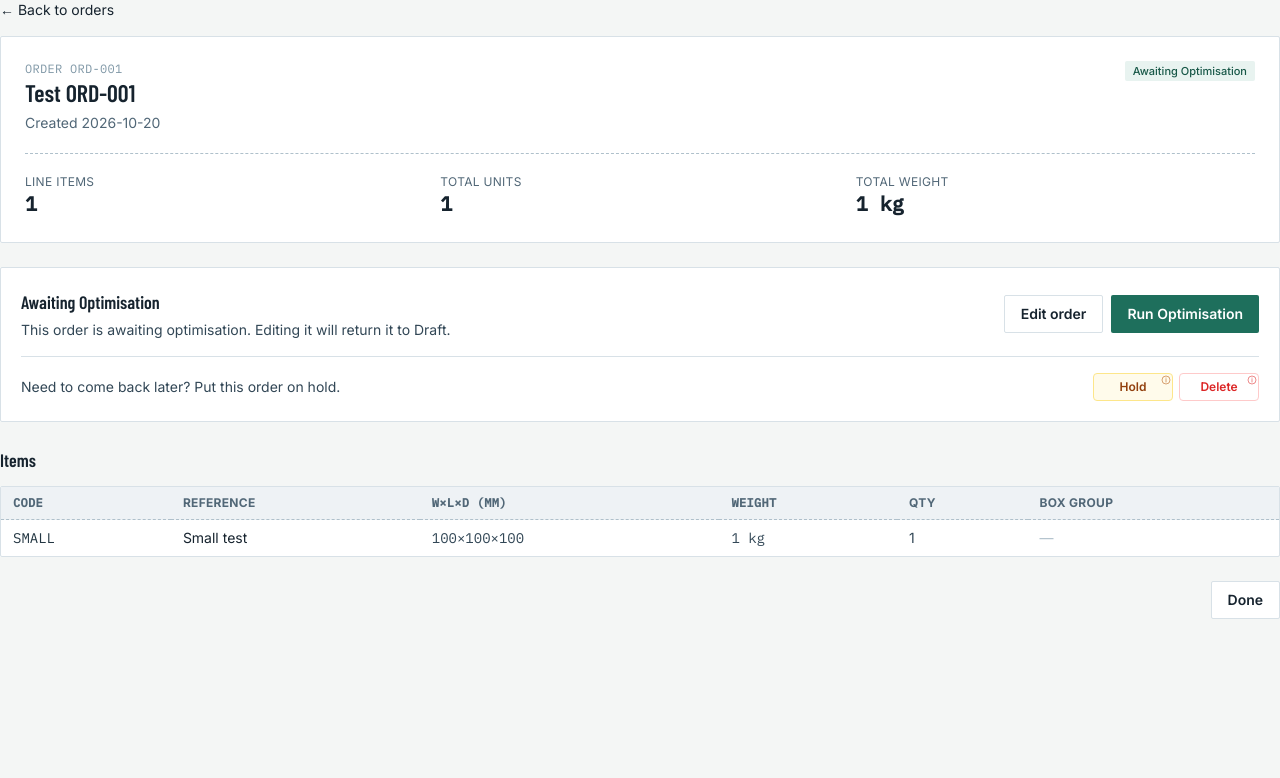
order rejection display and recovery › uses the saved solve response even when the follow-up summary request fails
Click the button "Run Optimisation" at (1185, 314), box [1111,295,1259,333]
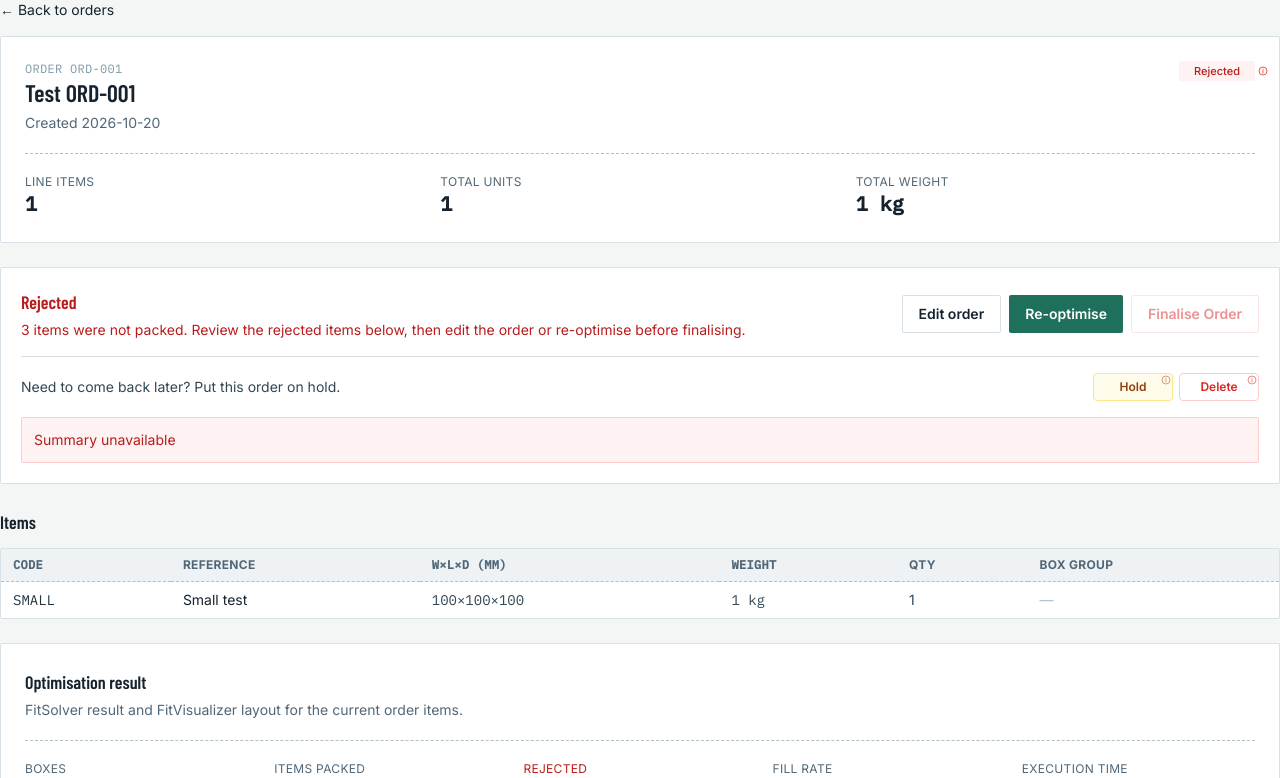
Now the button "Finalise Order" is disabled, box [1131,295,1259,333]
Now the text "Summary unavailable" is shown, box [21,417,1259,463]
